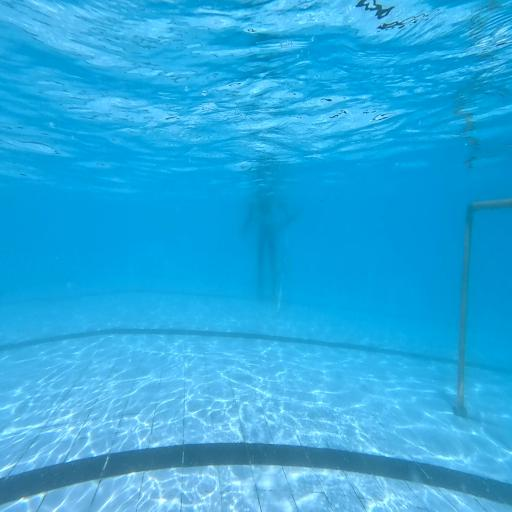gate: (453, 200, 512, 415)
